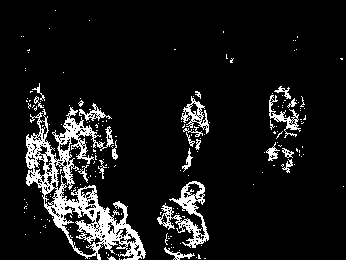person: (156, 180, 210, 260), (95, 199, 146, 260), (177, 90, 211, 171), (84, 102, 116, 174), (278, 93, 304, 173), (264, 83, 288, 163), (25, 82, 49, 140)
